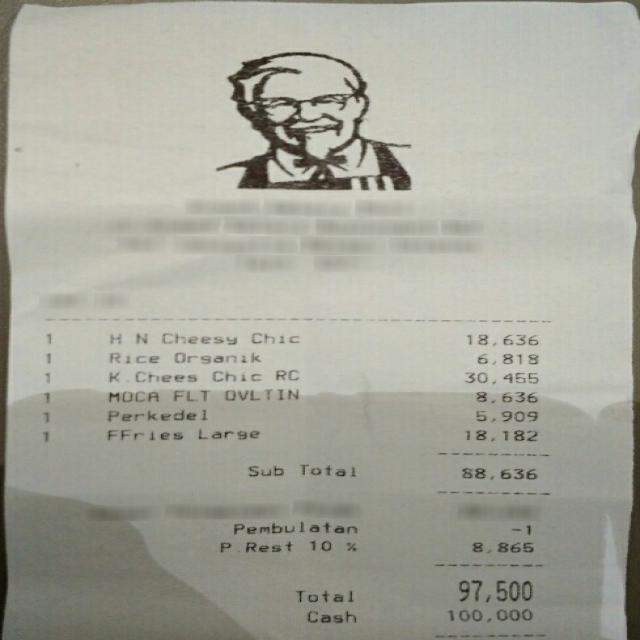text: (458, 580, 530, 601), (232, 521, 353, 533), (105, 408, 203, 420), (445, 609, 529, 621), (173, 351, 258, 362), (106, 370, 194, 380), (160, 332, 233, 344), (222, 388, 294, 400), (461, 467, 535, 478), (218, 540, 290, 551), (466, 333, 535, 344), (105, 429, 179, 439), (464, 372, 536, 382), (297, 464, 355, 476), (465, 429, 534, 439), (195, 427, 257, 438), (104, 389, 156, 402), (474, 391, 535, 401), (474, 410, 535, 420), (470, 542, 531, 552), (476, 353, 536, 363), (304, 610, 353, 622), (292, 590, 349, 600), (249, 332, 297, 343), (107, 352, 156, 362), (211, 370, 259, 380), (108, 332, 146, 343), (170, 389, 207, 400), (246, 464, 281, 474), (275, 368, 296, 378), (308, 540, 328, 550), (509, 524, 529, 533), (40, 331, 54, 343), (39, 429, 50, 440), (40, 392, 49, 404), (40, 371, 50, 381), (43, 352, 51, 364), (346, 541, 354, 550), (41, 410, 47, 422)
